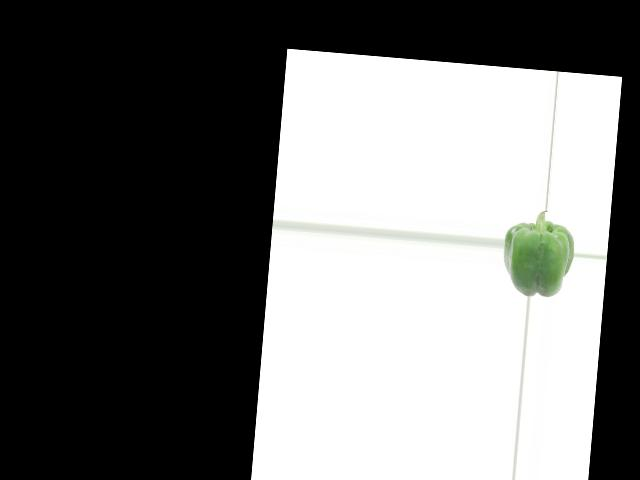bell_pepper: (501, 209, 576, 300)
